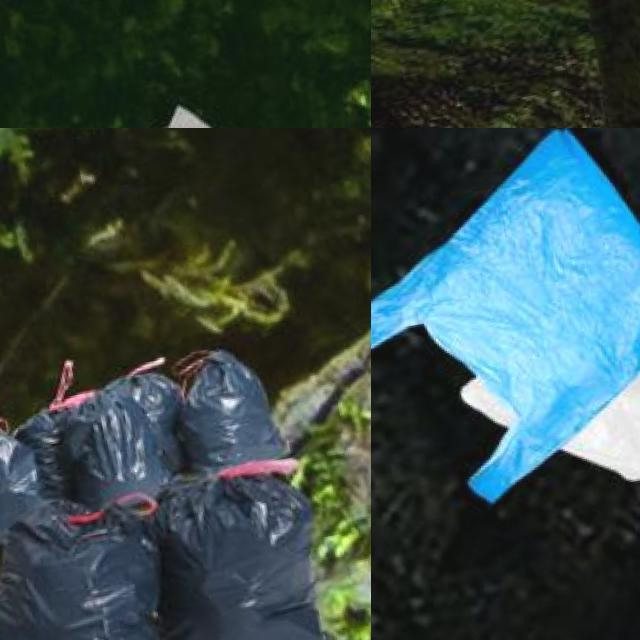waste: (371, 128, 640, 526), (133, 457, 350, 640), (0, 490, 183, 640), (29, 384, 178, 514), (170, 346, 288, 474), (0, 93, 313, 128), (0, 413, 55, 547)
